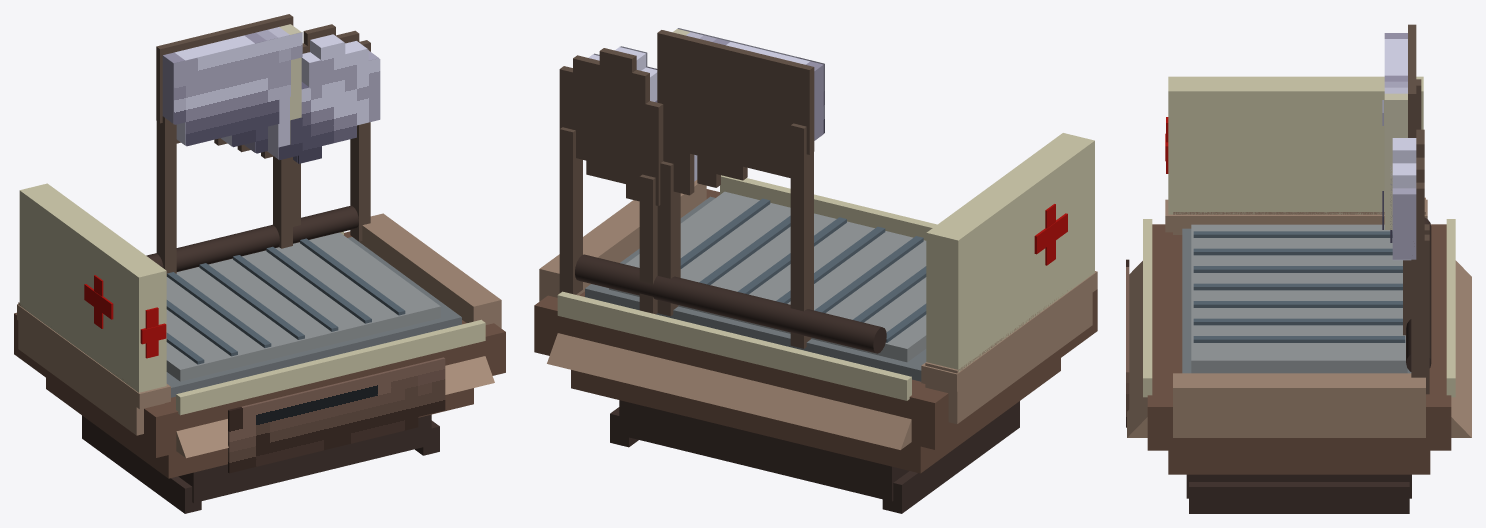
File: CMU3DAutodocPodCloudWest.glb
The picture shows the model from 3 angles, left to right: view 1: azimuth 30°, elevation 25°; view 2: azimuth 150°, elevation 25°; view 3: azimuth 270°, elevation 25°; orthographic projection. The views are drawn at different scales.
Visible parts, largest first — view 1: patient pad, cream medical endplate, original open glass contour and sheen (×2), original brown service fascia, rim rail, wide patient-bay base, lid hinge support (×3), separate mattress channels (×6), right stepped rounded end, recessed undercarriage, mattress inset, rear lid hinge (+7 smaller); view 2: solid lid frame behind glass (×18), cream medical endplate, patient pad, lid hinge support (×4), rim rail (×2), far bevelled fascia, wide patient-bay base, recessed undercarriage, lower cast chassis, rear lid hinge, separate mattress channels (×6), left stepped rounded end (+6 smaller); view 3: cream medical endplate, patient pad, right stepped rounded end, wide patient-bay base, separate mattress channels (×7), cast support foot, lower cast chassis, source-cut opened glass column (×4), rim rail (×2), far bevelled fascia, lid hinge support (×2), endplate lower brown edging (+7 smaller).
Part boxes in pixels (x1,y1,x2,y2): patient pad: [166, 232, 440, 381]; cream medical endplate: [19, 183, 166, 392]; original open glass contour and sheen (×2): [174, 32, 380, 163]; original brown service fascia: [228, 357, 445, 473]; rim rail: [176, 319, 485, 415]; wide patient-bay base: [14, 231, 505, 457]; lid hinge support (×3): [156, 116, 370, 276]; separate mattress channels (×6): [166, 238, 405, 356]; right stepped rounded end: [355, 213, 501, 328]; recessed undercarriage: [178, 414, 431, 502]; mattress inset: [166, 237, 461, 397]; rear lid hinge: [146, 205, 358, 271]; solid lid frame behind glass (×18): [559, 30, 814, 205]; cream medical endplate: [926, 133, 1094, 372]; patient pad: [609, 191, 926, 362]; lid hinge support (×4): [559, 123, 813, 348]; rim rail (×2): [557, 175, 937, 400]; far bevelled fascia: [547, 333, 911, 449]; wide patient-bay base: [534, 189, 1097, 449]; recessed undercarriage: [619, 400, 908, 501]; lower cast chassis: [571, 358, 1060, 473]; rear lid hinge: [575, 254, 886, 353]; separate mattress channels (×6): [680, 198, 926, 322]; left stepped rounded end: [925, 290, 1092, 424]; cream medical endplate: [1168, 76, 1423, 214]; patient pad: [1191, 224, 1407, 373]; right stepped rounded end: [1173, 373, 1425, 437]; wide patient-bay base: [1147, 224, 1451, 450]; separate mattress channels (×7): [1193, 231, 1405, 342]; cast support foot: [1189, 482, 1409, 513]; lower cast chassis: [1168, 450, 1430, 474]; source-cut opened glass column (×4): [1384, 93, 1416, 259]; rim rail (×2): [1143, 219, 1455, 397]; far bevelled fascia: [1451, 260, 1471, 437]; lid hinge support (×2): [1403, 234, 1429, 394]; endplate lower brown edging: [1165, 199, 1427, 232].
Size of what is drawn, in the model's own units: 0.985 by 0.9663 by 0.752.
Materials: 18 (3 with a texture image).
